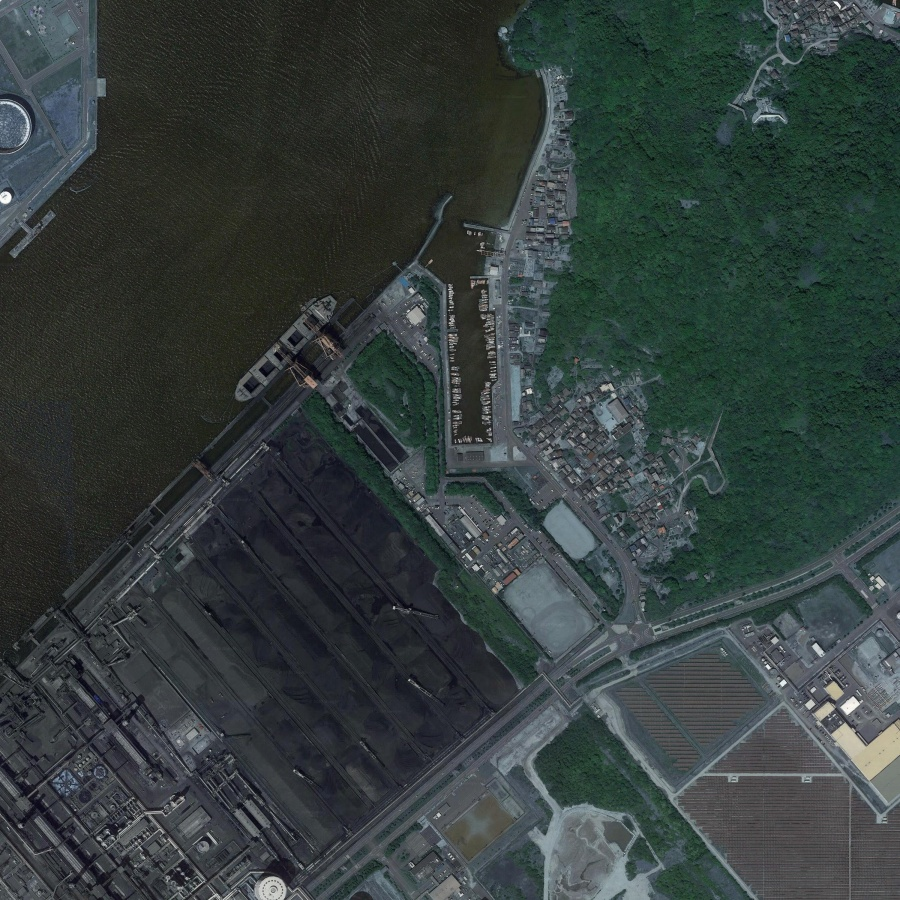PowerPlant: (146, 423, 532, 817)
